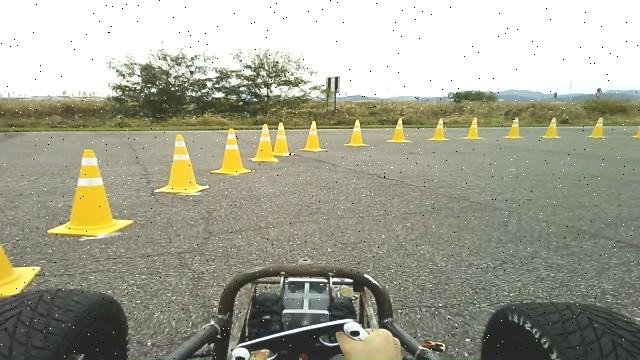yellow cone: (47, 148, 134, 237), (154, 134, 209, 194), (1, 243, 42, 298), (210, 127, 254, 175), (250, 123, 279, 162), (298, 120, 326, 152), (273, 122, 295, 156), (344, 119, 370, 146), (386, 118, 412, 143), (461, 116, 484, 140), (427, 117, 450, 141), (503, 116, 525, 139), (586, 116, 608, 138), (541, 117, 562, 138), (631, 125, 640, 138)
